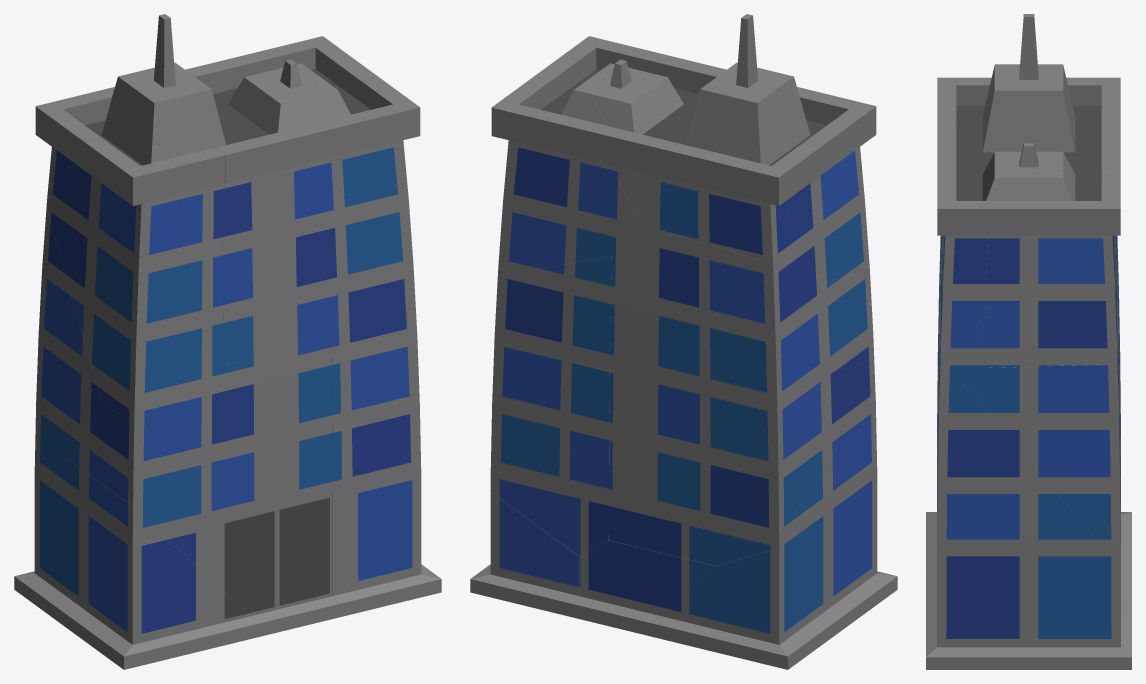
The model's file is HighHouse 3.1 Fractured.fbx.
3 renders of one model, left to right at view 1: azimuth 30°, elevation 25°; view 2: azimuth 150°, elevation 25°; view 3: azimuth 270°, elevation 25°, orthographic. The views are drawn at different scales.
Visible parts, largest first — view 1: HighHouse_3_01_Breaking_cell, HighHouse_3_01_Breaking_cell.005, HighHouse_3_01_Breaking_cell.004, HighHouse_3_01_Breaking_cell.006, HighHouse_3_01_Breaking_cell.001, HighHouse_3_01_Breaking_cell.008, HighHouse_3_01_Breaking_cell.009, HighHouse_3_01_Breaking_cell.002; view 2: HighHouse_3_01_Breaking_cell.009, HighHouse_3_01_Breaking_cell.008, HighHouse_3_01_Breaking_cell.003, HighHouse_3_01_Breaking_cell.006, HighHouse_3_01_Breaking_cell.002, HighHouse_3_01_Breaking_cell.004, HighHouse_3_01_Breaking_cell, HighHouse_3_01_Breaking_cell.001, HighHouse_3_01_Breaking_cell.005; view 3: HighHouse_3_01_Breaking_cell.001, HighHouse_3_01_Breaking_cell.002, HighHouse_3_01_Breaking_cell.003, HighHouse_3_01_Breaking_cell.008, HighHouse_3_01_Breaking_cell.005, HighHouse_3_01_Breaking_cell.004, HighHouse_3_01_Breaking_cell.006, HighHouse_3_01_Breaking_cell, HighHouse_3_01_Breaking_cell.009.
Boxes of the visible parts, box(x1,y1,x2,y2) form: HighHouse_3_01_Breaking_cell: box(66, 357, 338, 633); HighHouse_3_01_Breaking_cell.005: box(217, 81, 420, 363); HighHouse_3_01_Breaking_cell.004: box(46, 139, 224, 423); HighHouse_3_01_Breaking_cell.006: box(14, 458, 270, 669); HighHouse_3_01_Breaking_cell.001: box(331, 298, 441, 617); HighHouse_3_01_Breaking_cell.008: box(35, 14, 317, 185); HighHouse_3_01_Breaking_cell.009: box(34, 208, 101, 476); HighHouse_3_01_Breaking_cell.002: box(231, 36, 397, 111); HighHouse_3_01_Breaking_cell.009: box(609, 225, 841, 565); HighHouse_3_01_Breaking_cell.008: box(583, 14, 824, 259); HighHouse_3_01_Breaking_cell.003: box(490, 256, 611, 556); HighHouse_3_01_Breaking_cell.006: box(641, 436, 897, 669); HighHouse_3_01_Breaking_cell.002: box(491, 52, 643, 275); HighHouse_3_01_Breaking_cell.004: box(760, 87, 876, 377); HighHouse_3_01_Breaking_cell: box(573, 353, 876, 633); HighHouse_3_01_Breaking_cell.001: box(470, 492, 579, 617); HighHouse_3_01_Breaking_cell.005: box(567, 36, 726, 118); HighHouse_3_01_Breaking_cell.001: box(926, 384, 1131, 669); HighHouse_3_01_Breaking_cell.002: box(979, 167, 1120, 367); HighHouse_3_01_Breaking_cell.003: box(967, 274, 1120, 568); HighHouse_3_01_Breaking_cell.008: box(954, 14, 1120, 185); HighHouse_3_01_Breaking_cell.005: box(937, 119, 1019, 385); HighHouse_3_01_Breaking_cell.004: box(937, 77, 991, 313); HighHouse_3_01_Breaking_cell.006: box(926, 413, 1131, 573); HighHouse_3_01_Breaking_cell: box(926, 312, 1131, 609); HighHouse_3_01_Breaking_cell.009: box(1115, 235, 1120, 494).
Bounding box in the file's own units: 583 × 1035 × 349.
